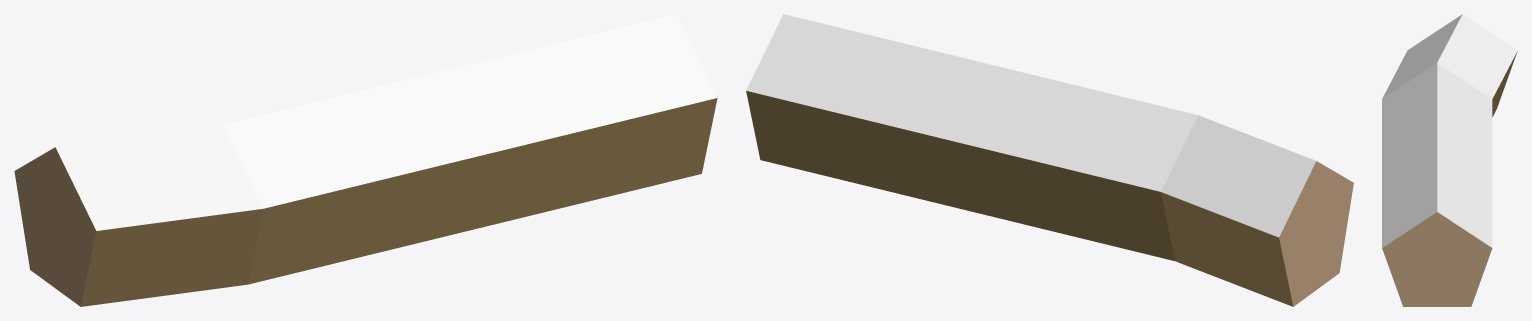
The model's file is Oak_Firewood_Snow_01.fbx.
The picture shows the model from 3 angles, left to right: view 1: azimuth 30°, elevation 25°; view 2: azimuth 150°, elevation 25°; view 3: azimuth 270°, elevation 25°; orthographic projection. The views are drawn at different scales.
Visible parts, largest first — view 1: Oak_Firewood_Snow_01; view 2: Oak_Firewood_Snow_01; view 3: Oak_Firewood_Snow_01.
Boxes of the visible parts, <box> form: Oak_Firewood_Snow_01: <box>14,14,717,306</box>; Oak_Firewood_Snow_01: <box>746,14,1353,306</box>; Oak_Firewood_Snow_01: <box>1382,14,1517,306</box>.
Bounding box in the file's own units: 56 × 12.56 × 16.25.
